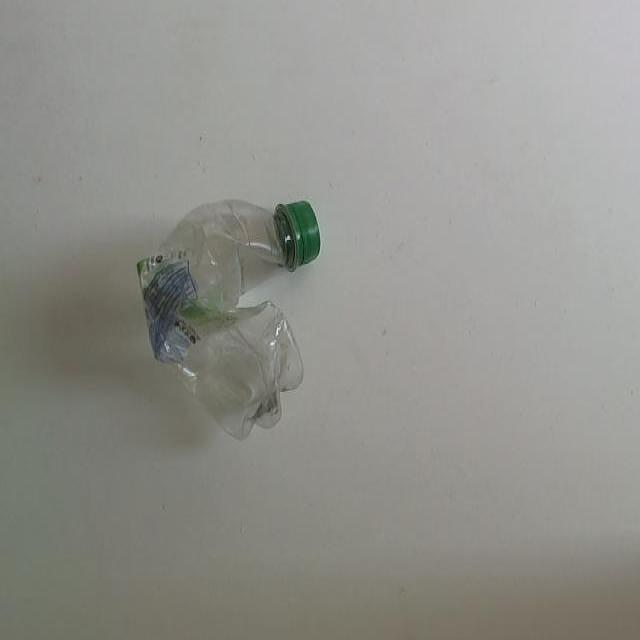defect: (135, 194, 323, 445)
